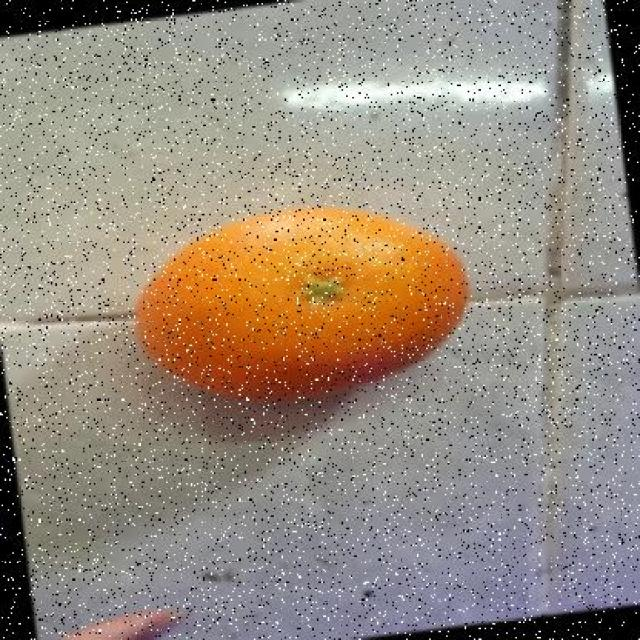Orange: (131, 203, 471, 405)
